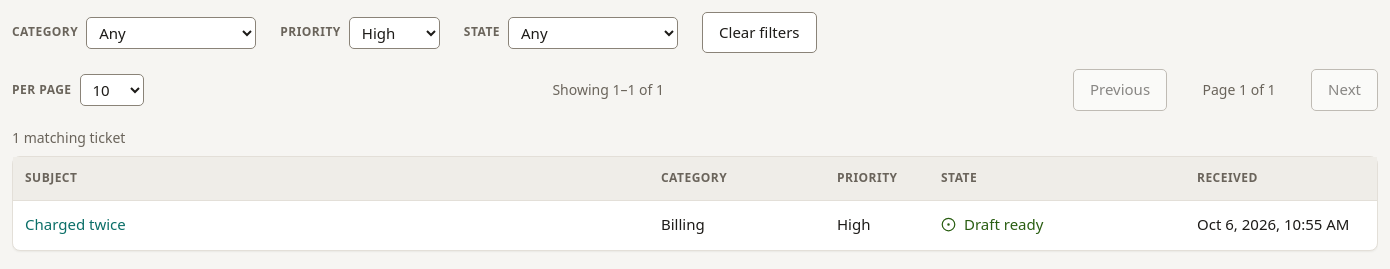
it: TicketQueue › offers to clear the filters only when one is set
Check: the table is shown, box [12,126,1378,251]
Click the button "Clear filters" at (759, 33), box [702,12,816,53]
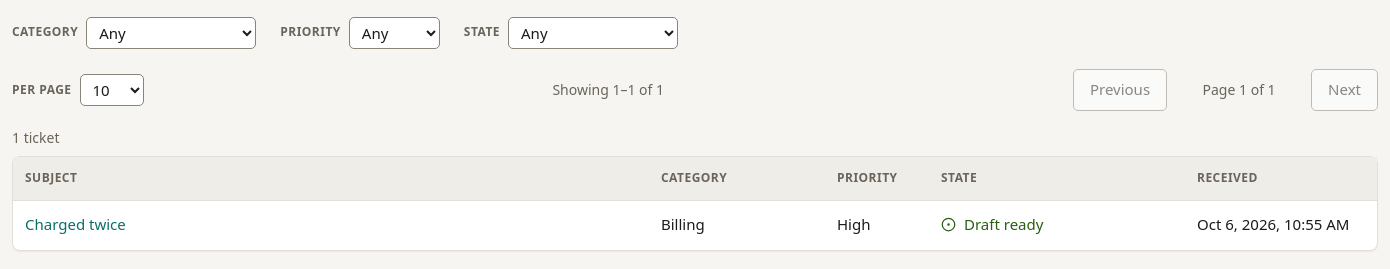
Check: the button "Clear filters" is gone
